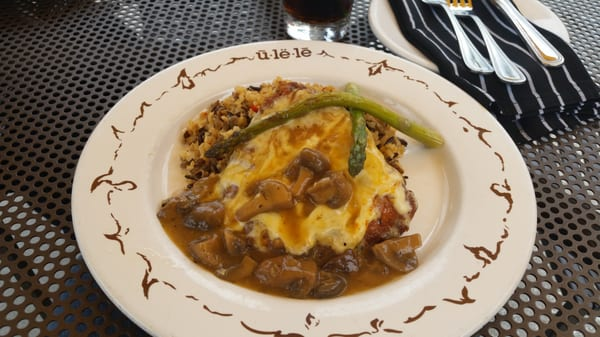pizza: (281, 1, 353, 43)
sandwich: (486, 1, 600, 128)
